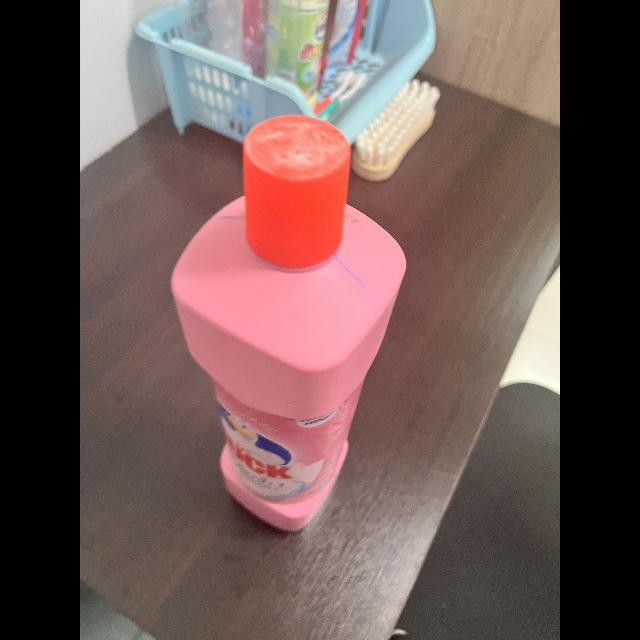chemical_plastic_bottle: (170, 102, 408, 538)
